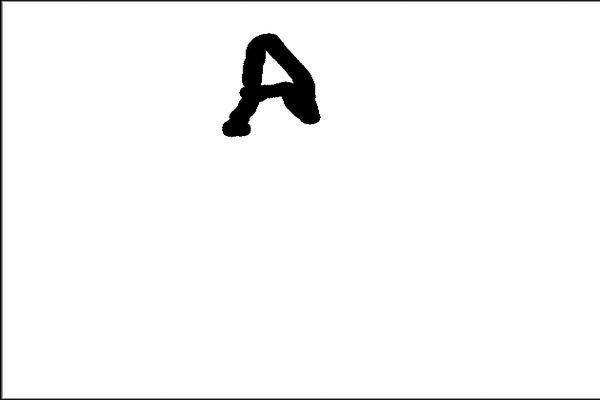A: (216, 23, 327, 138)
